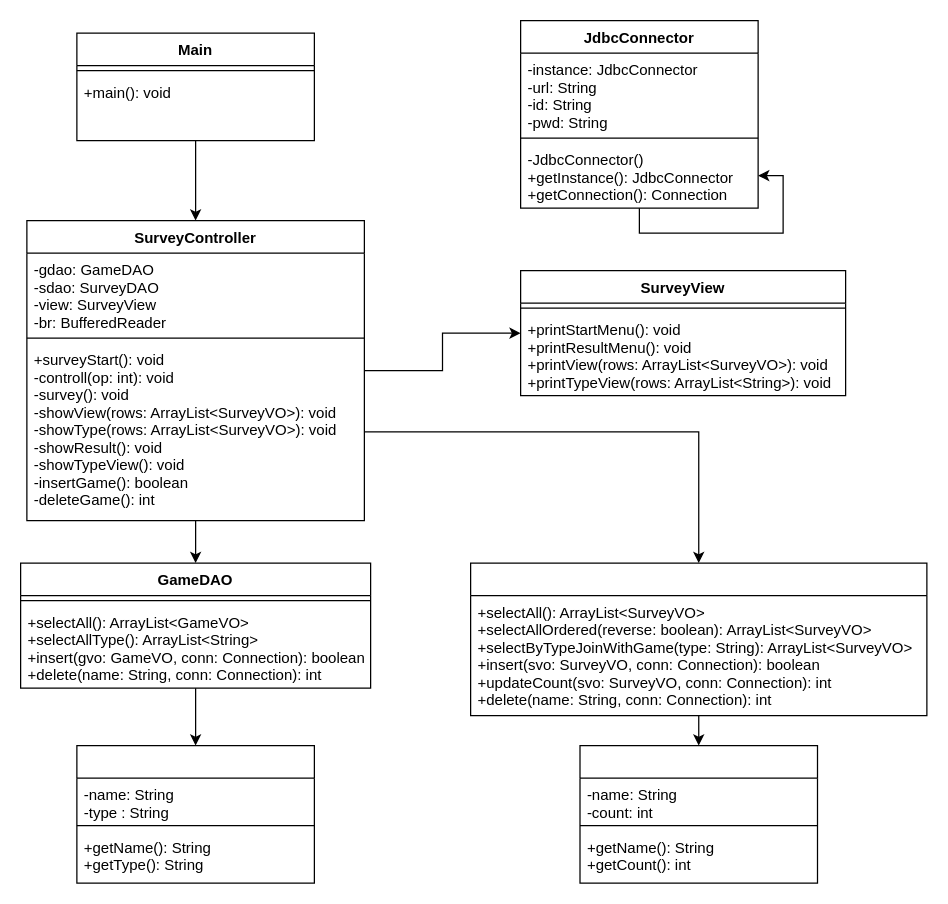
The diagram is 948 pixels wide and 904 high, and some of its shapes have lost their labels. The box of each missing label's shape, as (x1, y1, x2, y2) in pixels:
GameVO: (76, 744, 314, 883)
SurveyDAO: (469, 562, 927, 716)
SurveyVO: (579, 744, 818, 883)
